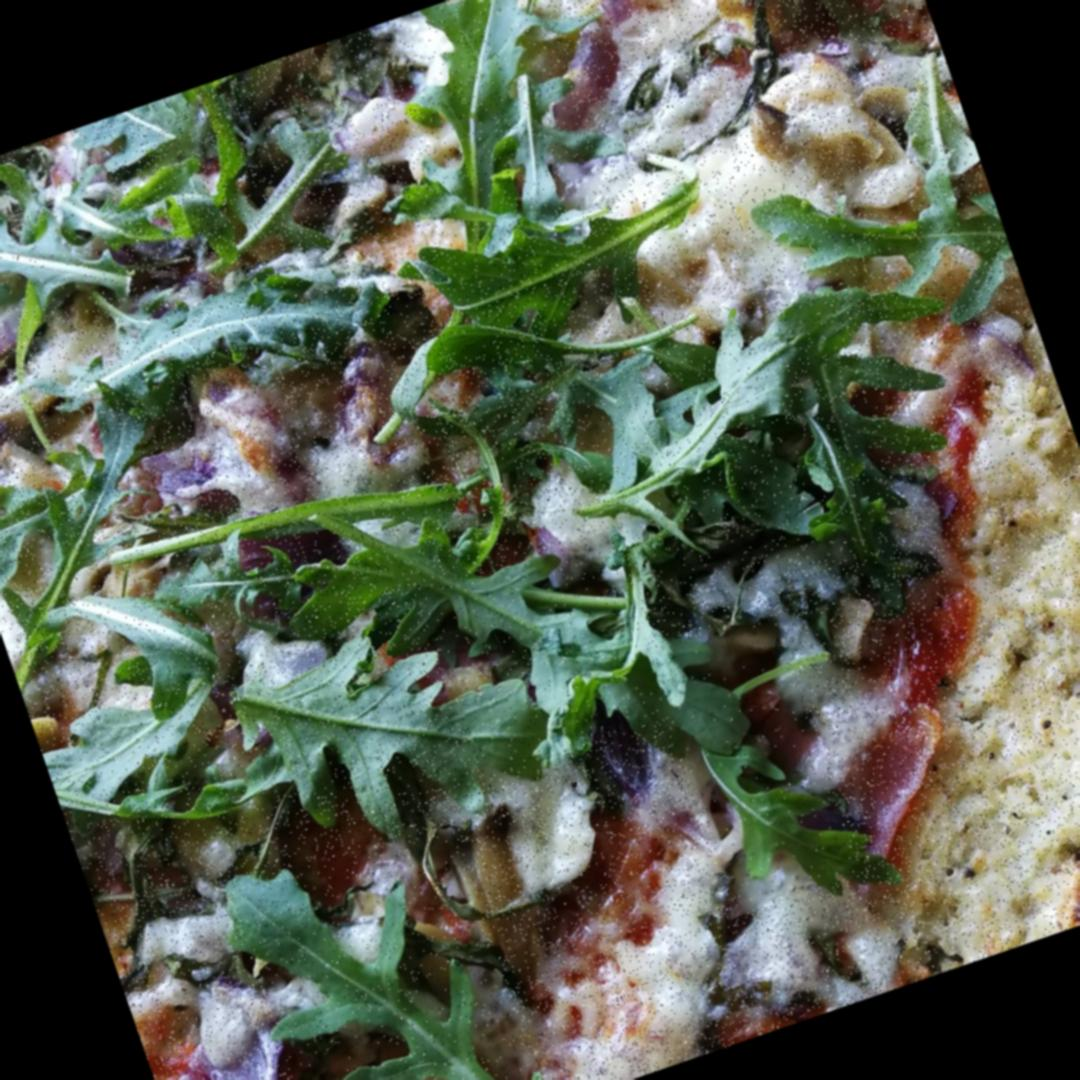Arugula: (35, 597, 485, 908), (562, 295, 909, 623), (72, 439, 494, 702), (234, 824, 548, 1080), (61, 245, 394, 434), (652, 612, 860, 914), (424, 532, 673, 776), (421, 172, 718, 364), (385, 0, 607, 246), (0, 135, 143, 364), (779, 166, 1005, 302)
Pizza: (0, 0, 1080, 1080)
